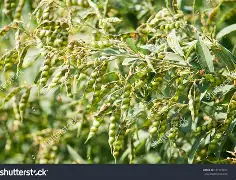crops: (0, 5, 232, 176)
